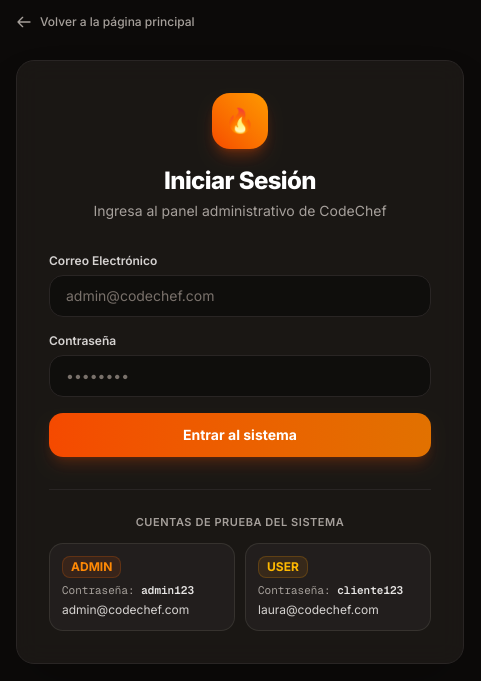
Test: LoginPage Component › renders quick-credentials buttons for testing
Step 1. Click the text "admin@codechef.com" → (126, 610), box [62,602,189,618]
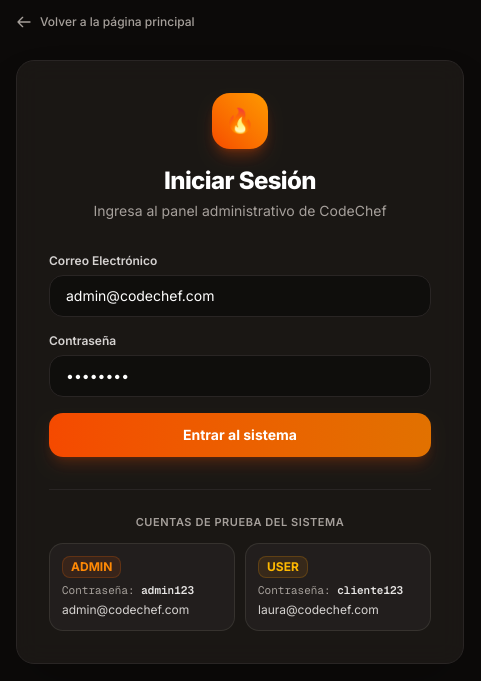
Expected: the field labelled "Correo Electrónico" holds "admin@codechef.com", [49,275,431,317]
Expected: the password field labelled "Contraseña" holds "admin123", [49,355,431,397]
